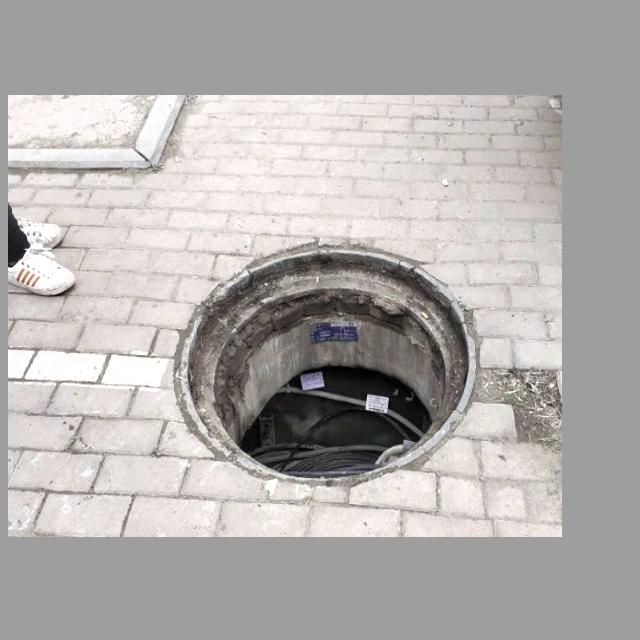lose: (171, 236, 479, 494)
